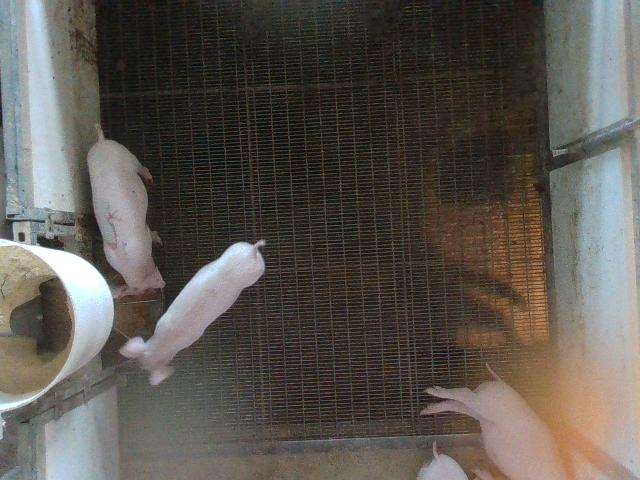pig-5: (88, 128, 165, 298)
